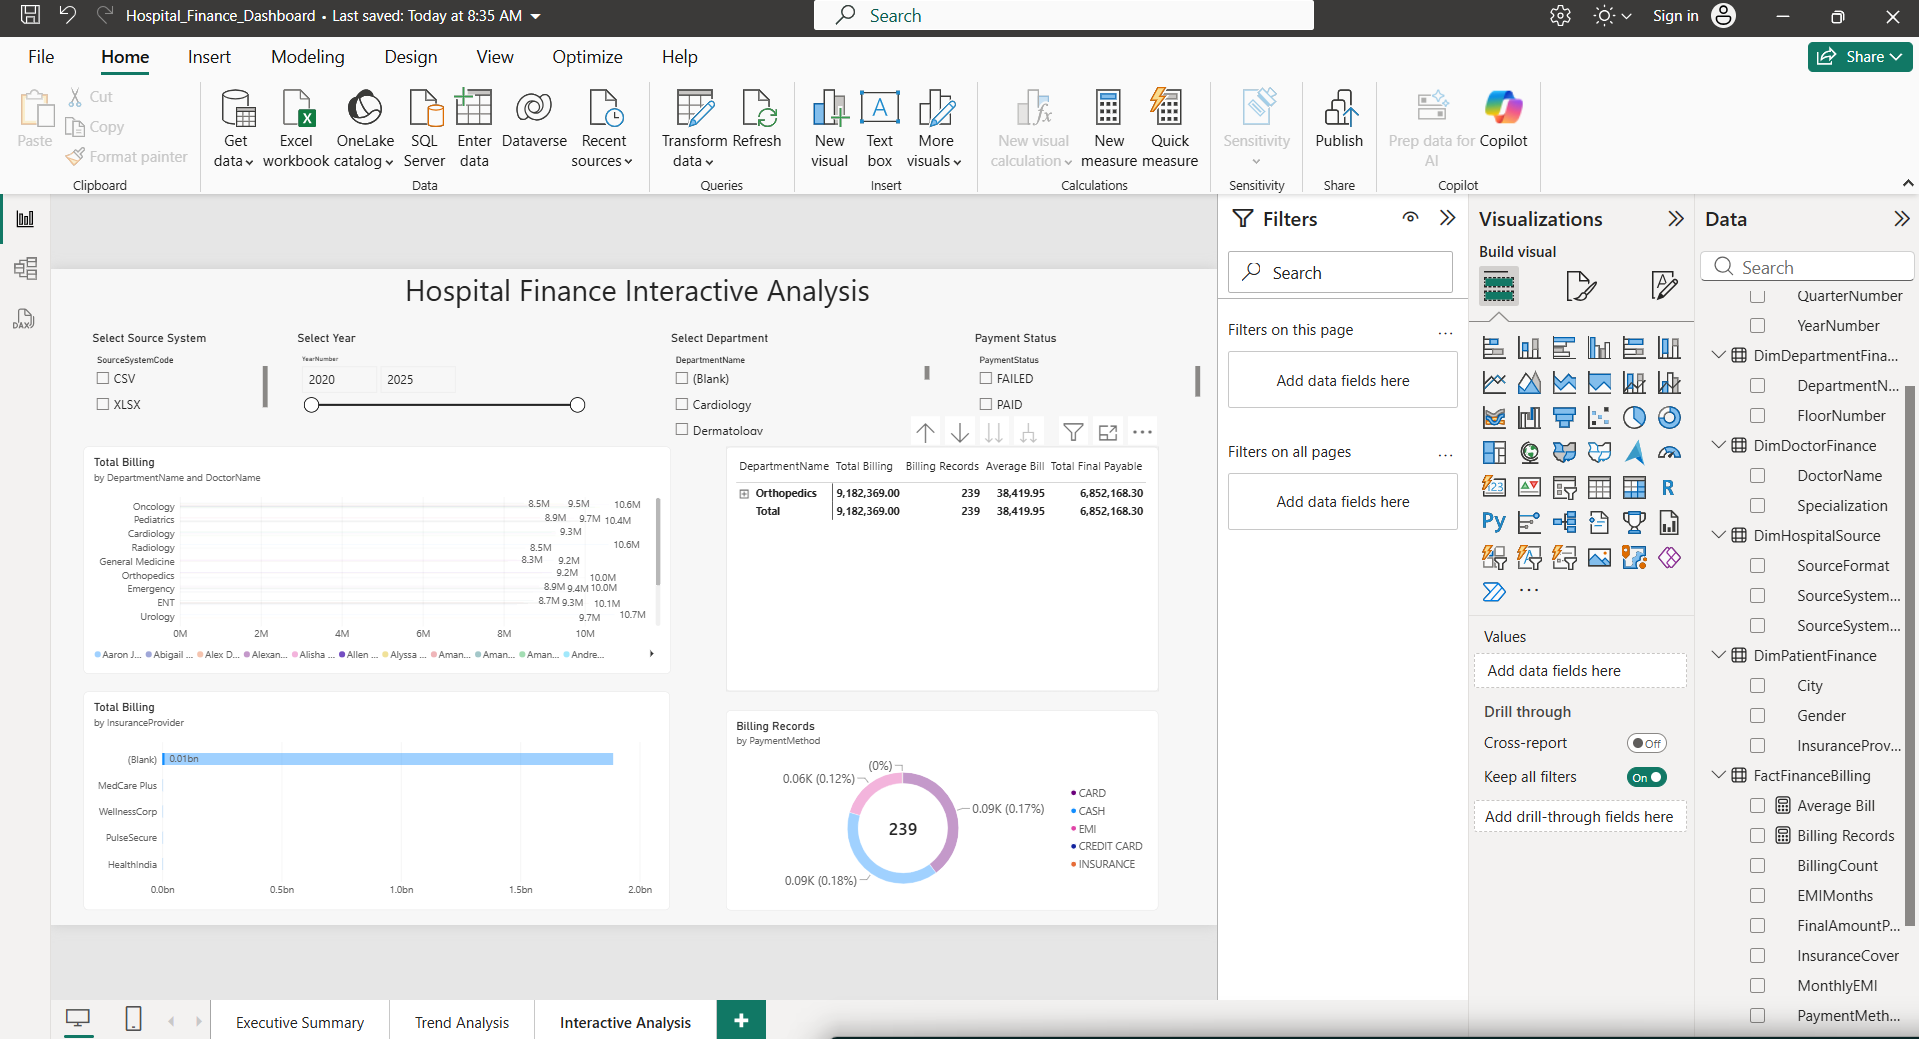

Layout of this report page (visuals, bound fields, positions):
{"tool":"powerbi","page":{"name":"Interactive Analysis","canvas":[1920,1080],"ordinal":2},"visuals":[{"type":"textbox","box":[9.5,0,1910.5,73.3],"z":0},{"type":"slicer","title":"Select Source System","fields":{"Values":["DimHospitalSource.SourceSystemCode"]},"box":[67.9,102.9,288.5,137.1],"z":1},{"type":"slicer","title":"Select Year","fields":{"Values":["DimDate.YearNumber"]},"box":[405.5,102.9,477.6,137.1],"z":2},{"type":"slicer","title":"Select Department","fields":{"Values":["DimDepartmentFinance.DepartmentName"]},"box":[1020.9,102.9,425.6,170.2],"z":3},{"type":"slicer","title":"Payment Status","fields":{"Values":["FactFinanceBilling.PaymentStatus"]},"box":[1521.1,102.9,371.2,137.1],"z":4},{"type":"clusteredBarChart","fields":{"Category":["DimDepartmentFinance.DepartmentName"],"Series":["DimDoctorFinance.DoctorName"],"Y":["FactFinanceBilling.Total Billing"]},"box":[53.5,292.3,967.4,374.6],"z":5},{"type":"donutChart","fields":{"Category":["FactFinanceBilling.PaymentMethod"],"Y":["FactFinanceBilling.Billing Records"]},"box":[1111.5,726.6,712.2,329.3],"z":7},{"type":"clusteredBarChart","fields":{"Category":["DimPatientFinance.InsuranceProvider"],"Y":["FactFinanceBilling.Total Billing"]},"box":[53.5,695.7,965.4,360.2],"z":8},{"type":"pivotTable","fields":{"Rows":["DimDepartmentFinance.DepartmentName","DimDoctorFinance.DoctorName"],"Values":["FactFinanceBilling.Total Billing","FactFinanceBilling.Billing Records","FactFinanceBilling.Average Bill","FactFinanceBilling.Total Final Payable"]},"box":[1111.5,292.3,711.7,404.3],"z":9}]}

Visuals, with their boxes on the page's 1920x1080 design canvas (x1, y1, x2, y2). These are canvas units, not pixel positions in the 1919x1039 screenshot, which may show the page scaled, cropped or inside an application window:
textbox: (10,0,1920,73)
"Select Source System" slicer: (68,103,356,240)
"Select Year" slicer: (406,103,883,240)
"Select Department" slicer: (1021,103,1446,273)
"Payment Status" slicer: (1521,103,1892,240)
clusteredBarChart - DimDepartmentFinance.DepartmentName x DimDoctorFinance.DoctorName: (54,292,1021,667)
donutChart - FactFinanceBilling.PaymentMethod x FactFinanceBilling.Billing Records: (1112,727,1824,1056)
clusteredBarChart - DimPatientFinance.InsuranceProvider x FactFinanceBilling.Total Billing: (54,696,1019,1056)
pivotTable - DimDepartmentFinance.DepartmentName x DimDoctorFinance.DoctorName: (1112,292,1823,697)
